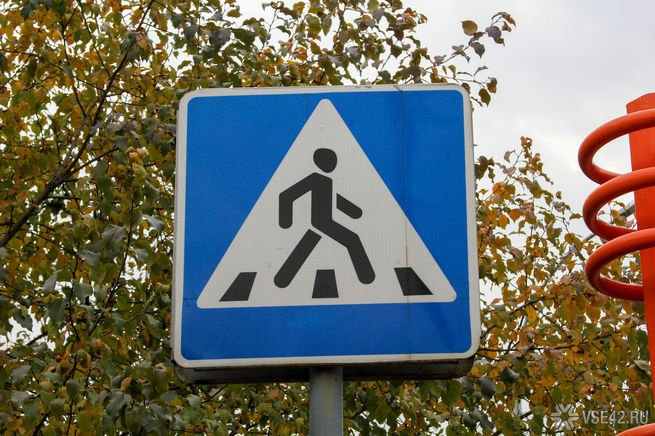yaya_gecidi: (172, 84, 483, 370)
